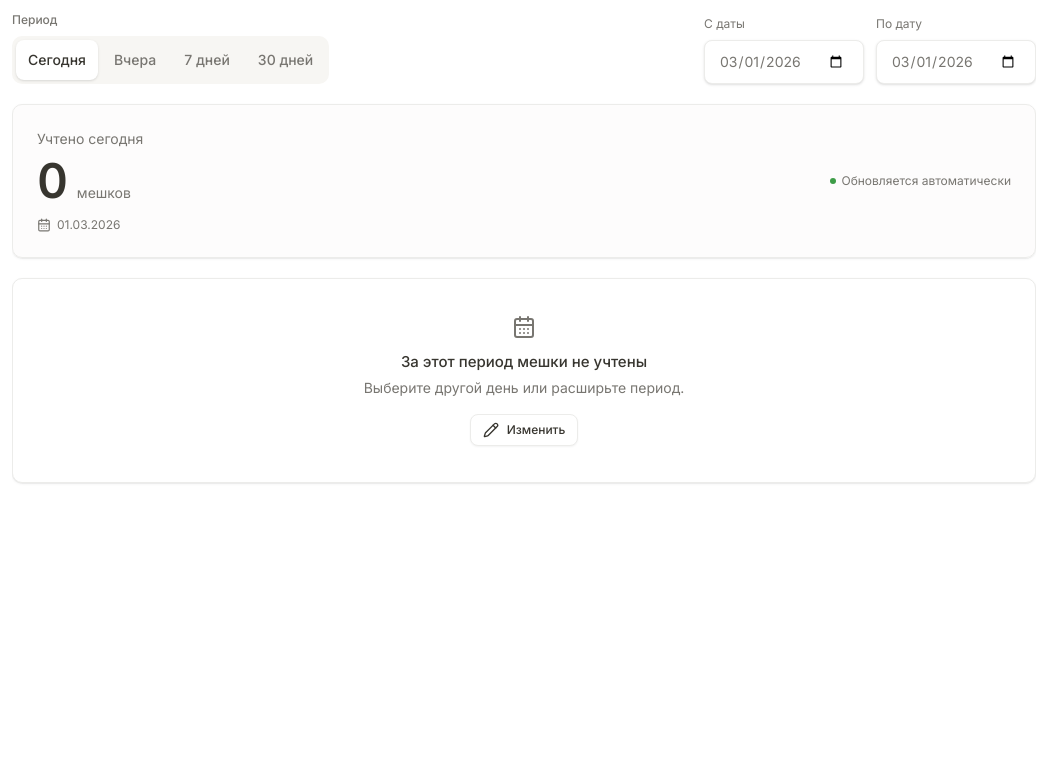
it: camera analytics overview › lets a superuser fill a day the camera left empty
Expected: the heading "За этот период мешки не учтены" is shown, [401,352,647,371]
Click the button with aria-label "Изменить цвета за 01.03.2026": (524, 430) [470,414,578,446]
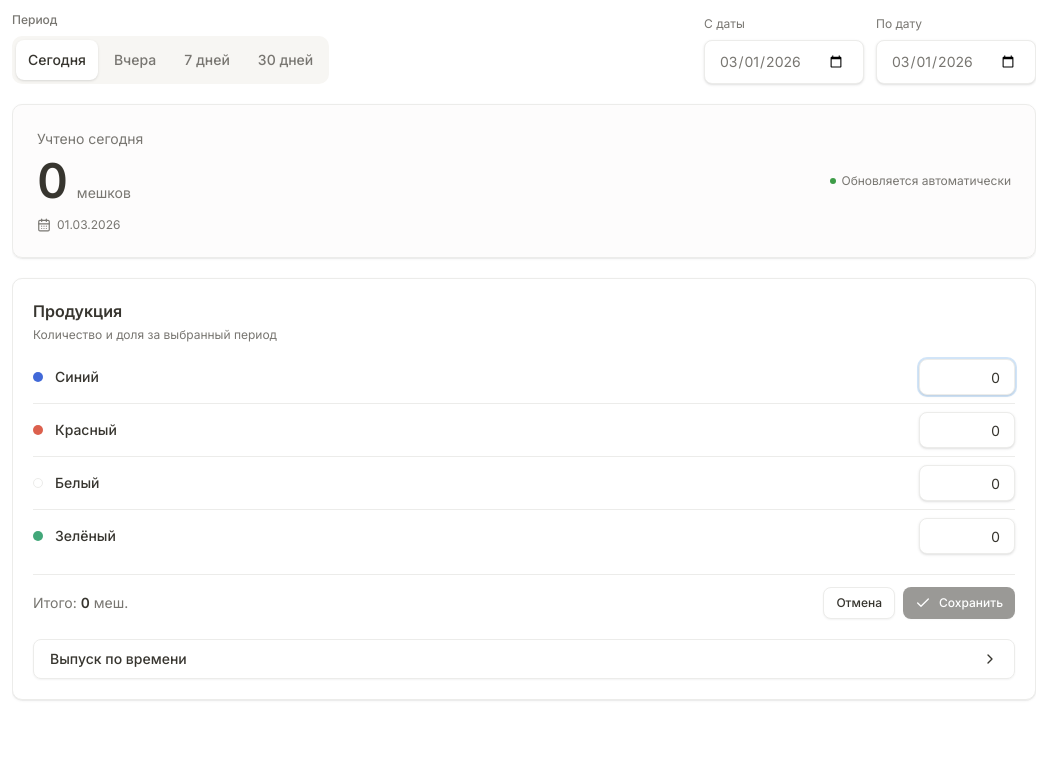
Result: the form named "Исправление цветов мешков" is shown at [33,359,1015,619]
Result: the heading "За этот период мешки не учтены" is gone
